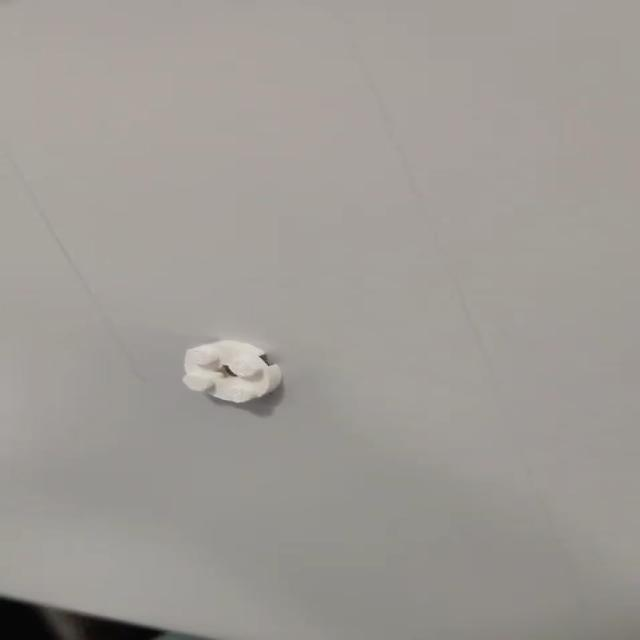S2x2x0: (180, 338, 282, 404)
